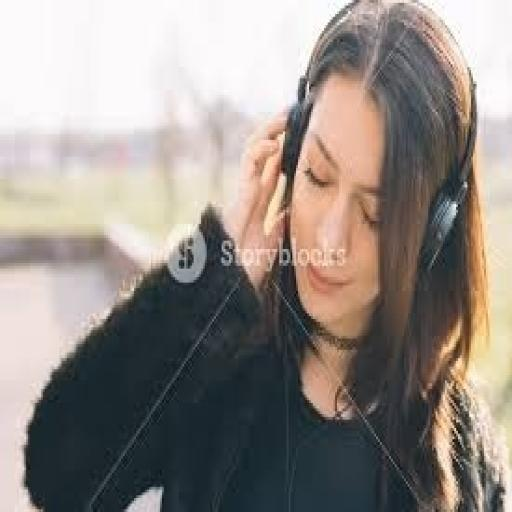listening_to_music: (20, 0, 508, 509)
